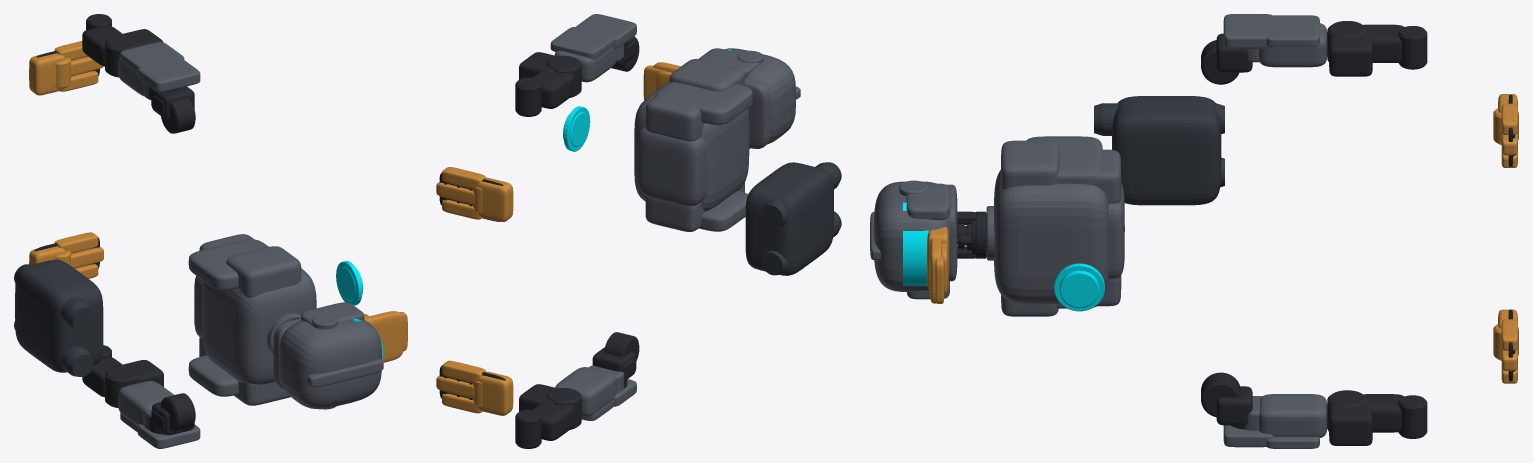
The model's file is cyberduck_v2_exploded.obj.
3 views of the same model, side by side, from view 1: azimuth 30°, elevation 25°; view 2: azimuth 150°, elevation 25°; view 3: azimuth 270°, elevation 25° (orthographic). The views are drawn at different scales.
Parts seen in each view (by area): view 1: cyber_chest_01, cyber_helm_05, cyber_thruster_pack_03, cyber_thigh_left_09, cyber_foot_left_11, cyber_thigh_right_14, cyber_shin_left_10, cyber_shin_right_15, cyber_foot_right_16, cyber_hip_left_08, cyber_hip_right_13, cyber_beak_07 (+1 smaller); view 2: cyber_chest_01, cyber_thruster_pack_03, cyber_helm_05, cyber_thigh_left_09, cyber_shin_left_10, cyber_shin_right_15, cyber_foot_left_11, cyber_foot_right_16, cyber_thigh_right_14, cyber_hip_right_13, cyber_reactor_02, cyber_beak_07 (+1 smaller); view 3: cyber_chest_01, cyber_thruster_pack_03, cyber_helm_05, cyber_thigh_left_09, cyber_shin_left_10, cyber_thigh_right_14, cyber_shin_right_15, cyber_hip_right_13, cyber_reactor_02, cyber_hip_left_08, cyber_beak_07, cyber_foot_left_11 (+3 smaller).
Part boxes in pixels (x1,y1,x2,y2): cyber_chest_01: (188,234,316,405); cyber_helm_05: (273,302,383,409); cyber_thruster_pack_03: (14,259,103,376); cyber_thigh_left_09: (118,42,200,100); cyber_foot_left_11: (29,41,103,95); cyber_thigh_right_14: (118,381,200,448); cyber_shin_left_10: (82,14,162,77); cyber_shin_right_15: (82,345,163,407); cyber_foot_right_16: (29,232,103,278); cyber_hip_left_08: (149,86,195,133); cyber_hip_right_13: (149,393,195,435); cyber_beak_07: (364,311,407,362); cyber_chest_01: (634,59,752,231); cyber_thruster_pack_03: (745,162,841,275); cyber_helm_05: (699,48,800,148); cyber_thigh_left_09: (550,14,636,82); cyber_shin_left_10: (515,52,581,116); cyber_shin_right_15: (515,384,581,448); cyber_foot_left_11: (436,167,513,221); cyber_foot_right_16: (436,360,513,415); cyber_thigh_right_14: (555,365,636,420); cyber_hip_right_13: (592,332,639,388); cyber_reactor_02: (563,106,590,151); cyber_beak_07: (643,62,680,100); cyber_chest_01: (986,136,1124,316); cyber_thruster_pack_03: (1094,96,1224,205); cyber_helm_05: (870,180,957,299); cyber_thigh_left_09: (1223,14,1327,67); cyber_shin_left_10: (1327,21,1427,76); cyber_thigh_right_14: (1223,394,1327,448); cyber_shin_right_15: (1327,390,1427,445); cyber_hip_right_13: (1201,372,1252,429); cyber_reactor_02: (1054,263,1104,311); cyber_hip_left_08: (1201,33,1252,84); cyber_beak_07: (927,227,948,303); cyber_foot_left_11: (1493,94,1518,167).
Size of the model in its own units: 0.1999 by 0.2496 by 0.3566.
